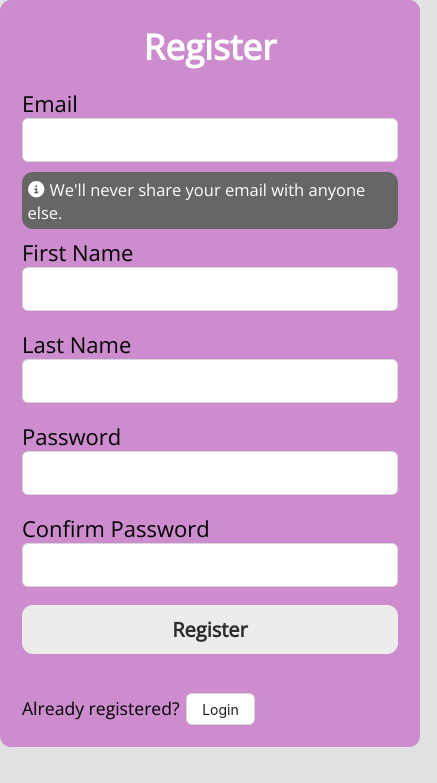
Test: Register › handles form submission successfully
Step 1. Type "test@example.com" into the field labelled "Email" → (210, 140), box [22,118,398,162]
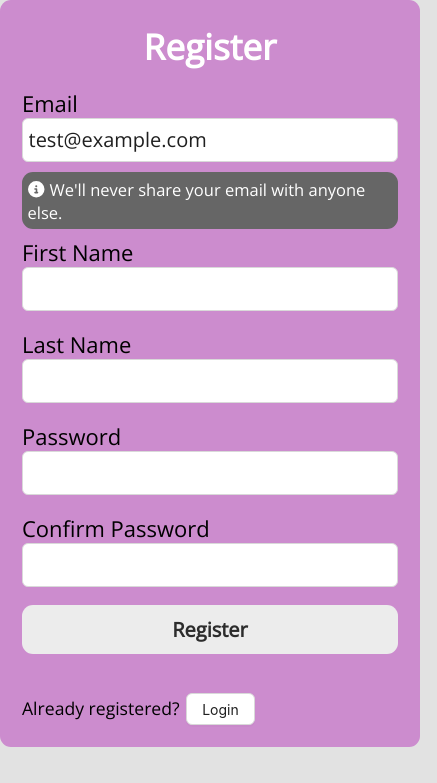
Step 2. Type "John" into the field labelled "First Name" → (210, 289), box [22,267,398,311]
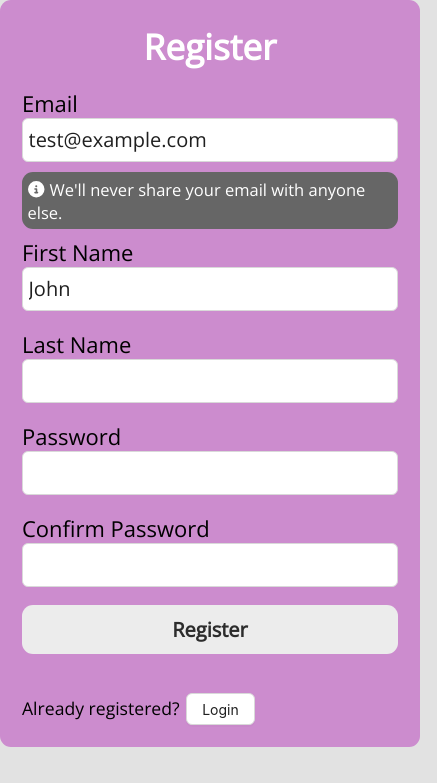
Step 3. Type "Doe" into the field labelled "Last Name" → (210, 381), box [22,359,398,403]
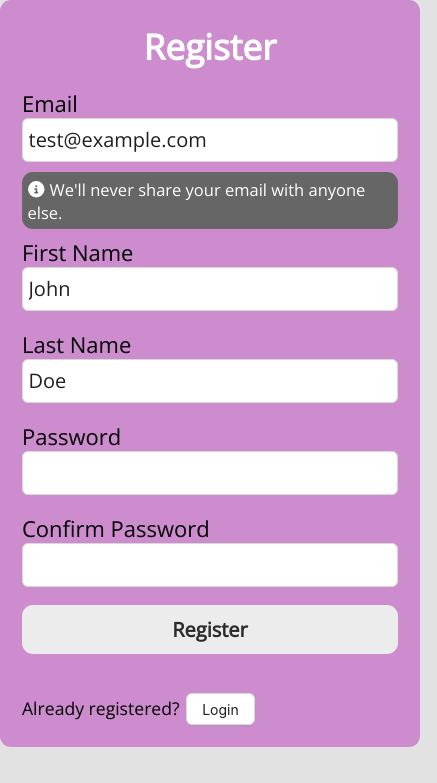
Step 4. Type "Test123!" into the password field labelled "Password" → (210, 473), box [22,451,398,495]
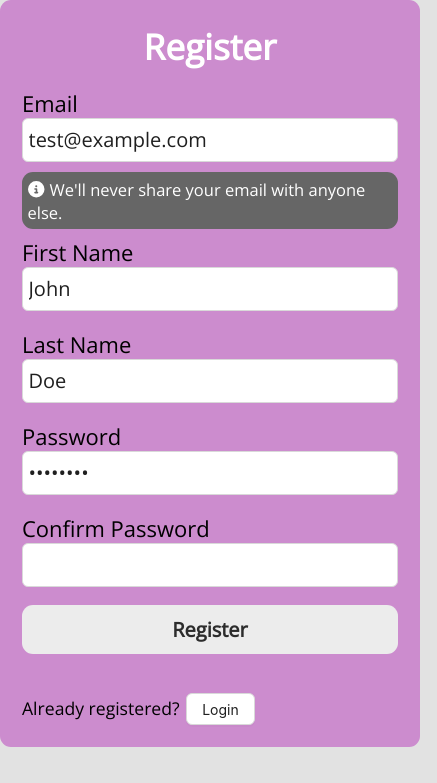
Step 5. Type "Test123!" into the password field labelled "Confirm Password" → (210, 565), box [22,543,398,587]
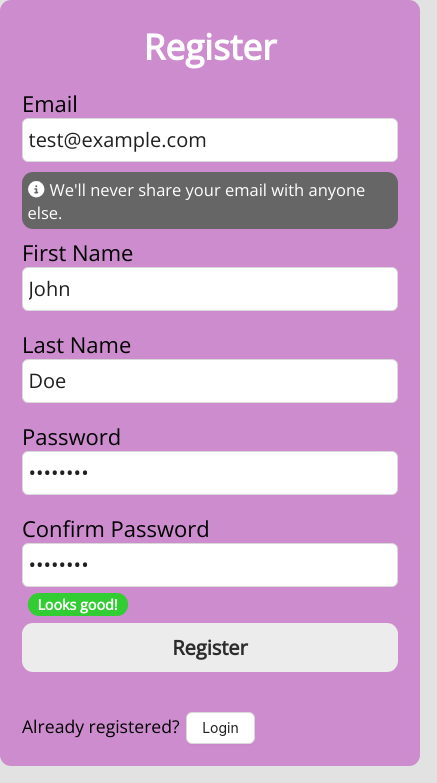
Step 6. Submit the form from the button "Register", box [22,623,398,672]
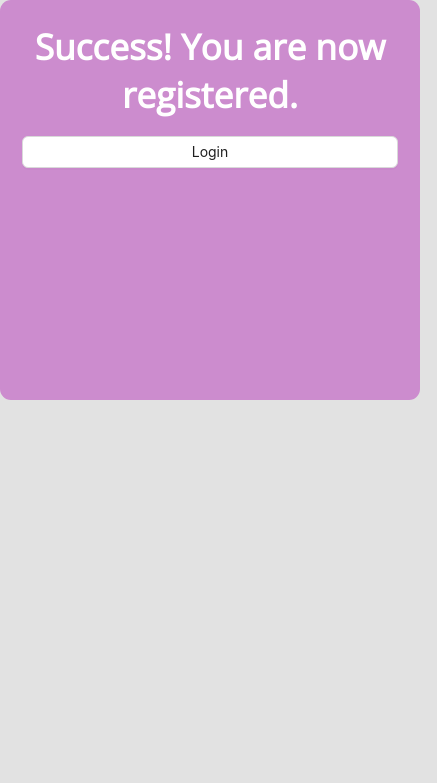
expect the heading "Success! You are now registered." is shown: met, box [22,22,398,118]
